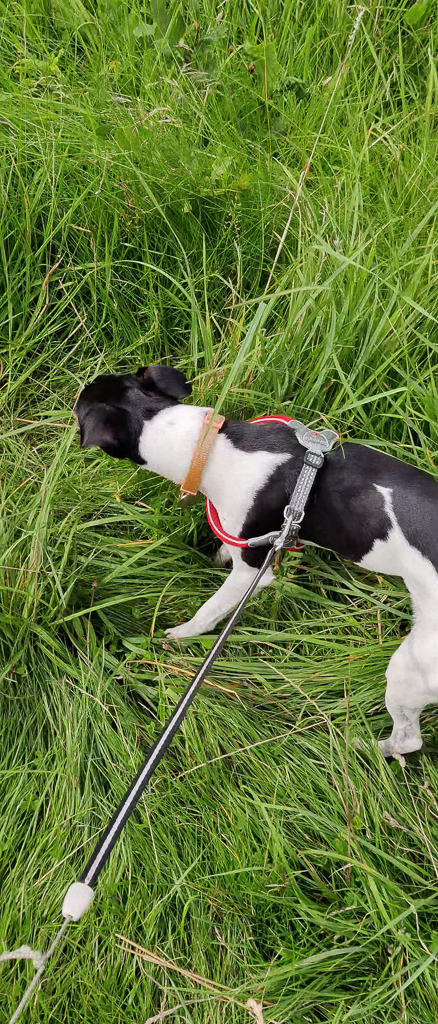Dog: (65, 353, 438, 777)
